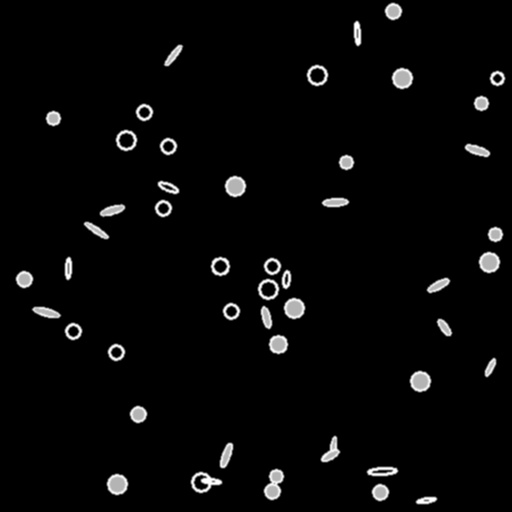pseudomonas: (84, 221, 108, 239), (164, 44, 182, 66), (426, 277, 450, 293), (33, 305, 59, 319), (464, 143, 490, 157), (99, 203, 125, 217), (219, 443, 233, 467), (320, 447, 340, 463), (157, 180, 179, 194), (436, 318, 452, 336), (367, 467, 397, 475), (261, 306, 271, 328), (484, 358, 496, 376), (323, 198, 347, 206), (329, 436, 337, 456), (354, 21, 360, 45), (417, 496, 435, 504), (282, 271, 290, 287), (65, 258, 71, 278), (201, 478, 221, 484)
synechocystis: (393, 69, 411, 87), (480, 253, 498, 271), (259, 280, 277, 298), (117, 131, 135, 149), (226, 177, 244, 195), (108, 475, 126, 493), (411, 372, 429, 390), (308, 66, 326, 84), (192, 473, 210, 491), (285, 299, 303, 317), (270, 336, 286, 352), (212, 258, 228, 274), (156, 201, 170, 215), (17, 272, 31, 286), (109, 345, 123, 359), (66, 324, 80, 338), (131, 407, 145, 421), (265, 259, 279, 273), (386, 4, 400, 18), (373, 485, 387, 499), (137, 105, 151, 119), (224, 304, 238, 318), (161, 139, 175, 153), (265, 484, 279, 498), (340, 156, 352, 168), (475, 97, 487, 109), (491, 72, 503, 84), (47, 112, 59, 124), (270, 470, 282, 482), (489, 228, 501, 240)
